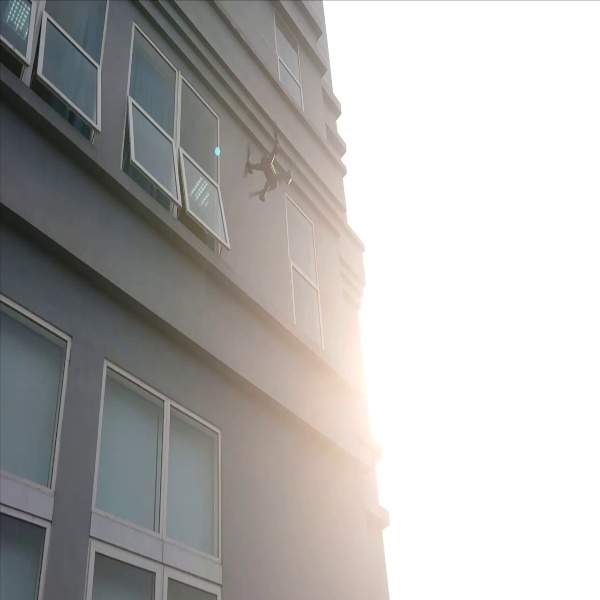drone: (235, 124, 301, 204)
